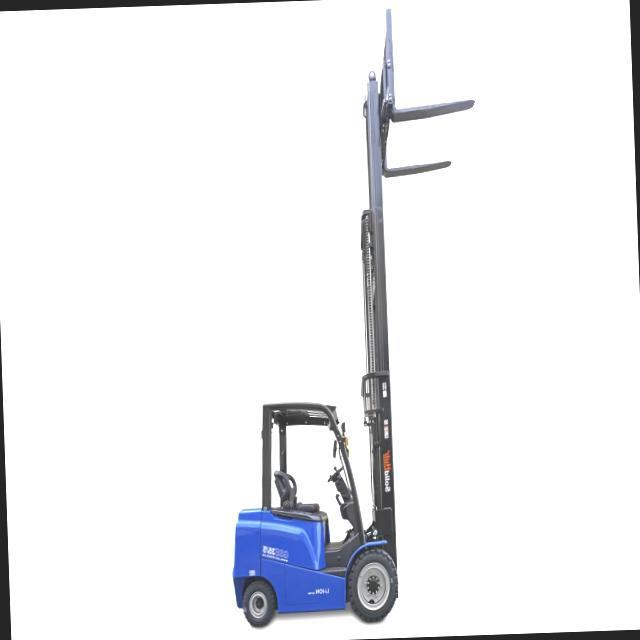forklift: (224, 368, 406, 632)
